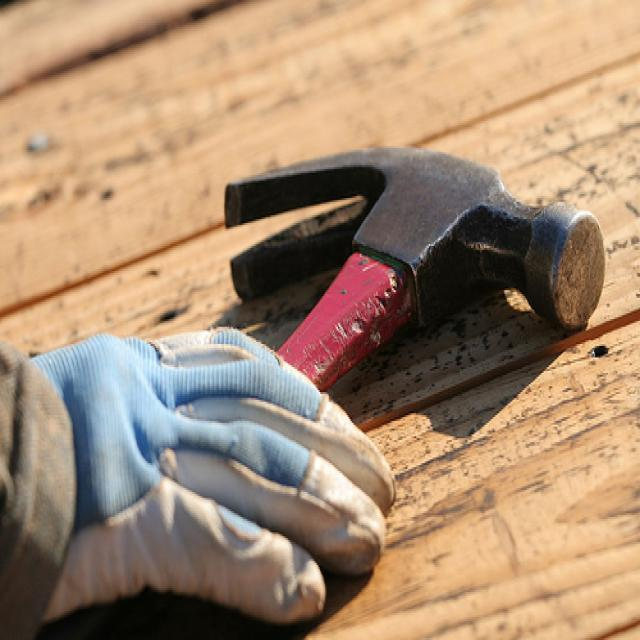hammer: (223, 137, 613, 386)
